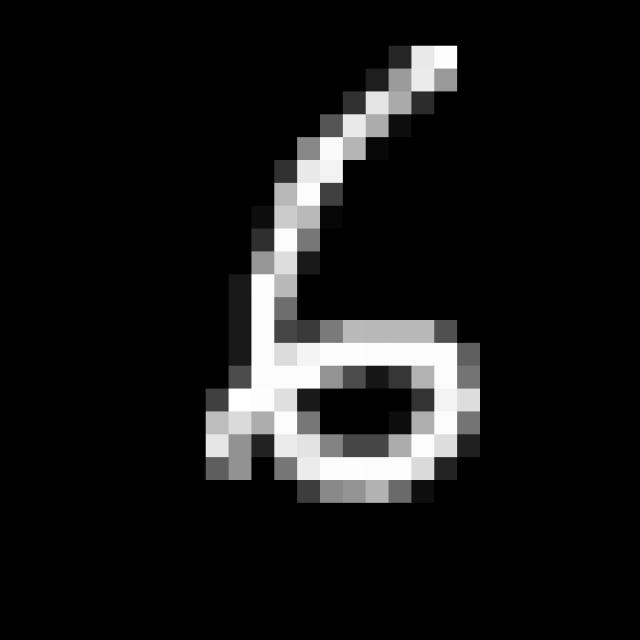six -6-: (213, 39, 484, 504)
